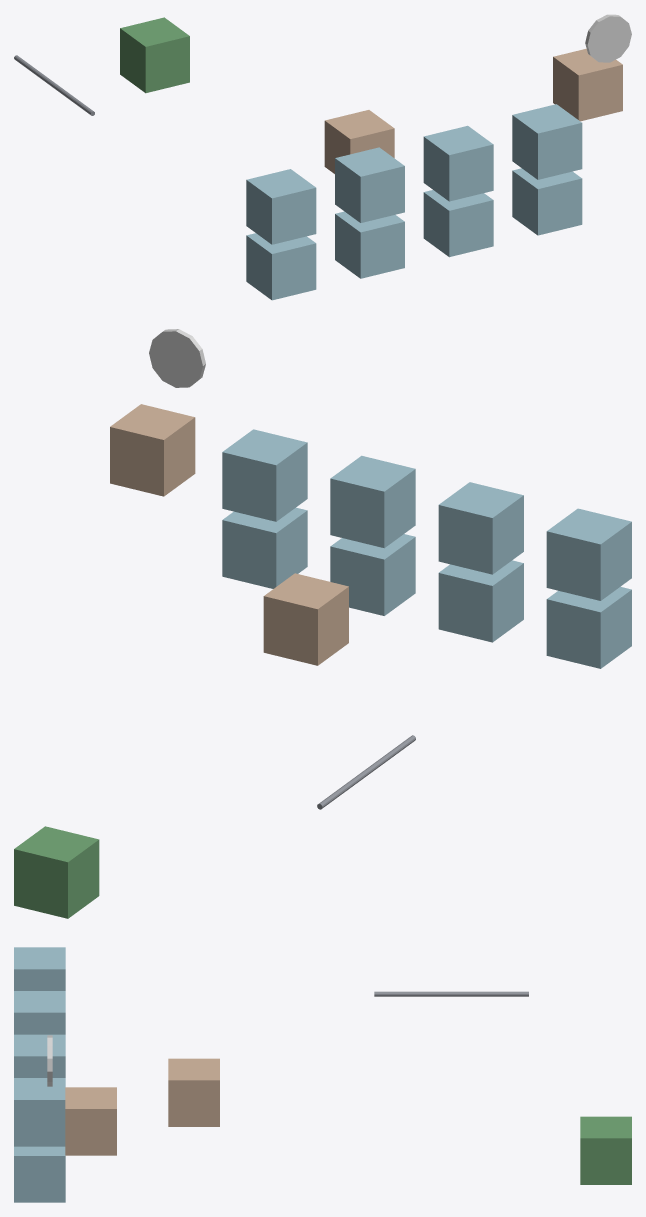
The model's file is bld_school_orange.glb.
3 renders of one model, top to bottom at view 1: azimuth 30°, elevation 25°; view 2: azimuth 150°, elevation 25°; view 3: azimuth 270°, elevation 25°, orthographic. The views are drawn at different scales.
Parts seen in each view (by area): view 1: world; view 2: world; view 3: world.
Part boxes in pixels (x1,y1,x2,y2): world: (14,14,631,300); world: (14,329,631,918); world: (14,947,631,1202).
Bounding box in the file's own units: 8.55 × 4.79 × 12.
